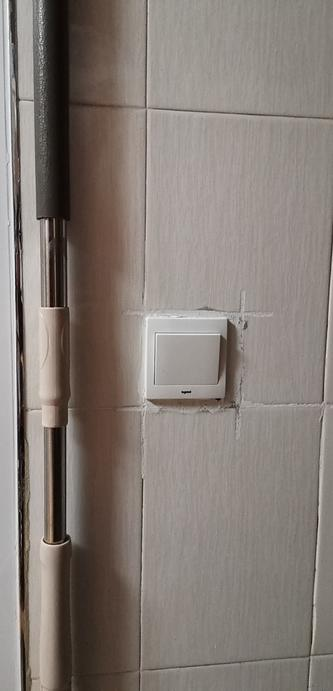switch: (151, 331, 227, 387)
